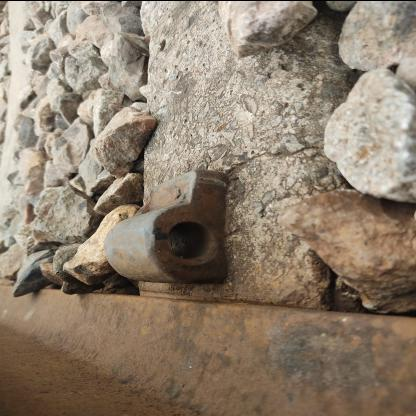Defective 1: (44, 120, 292, 342)
